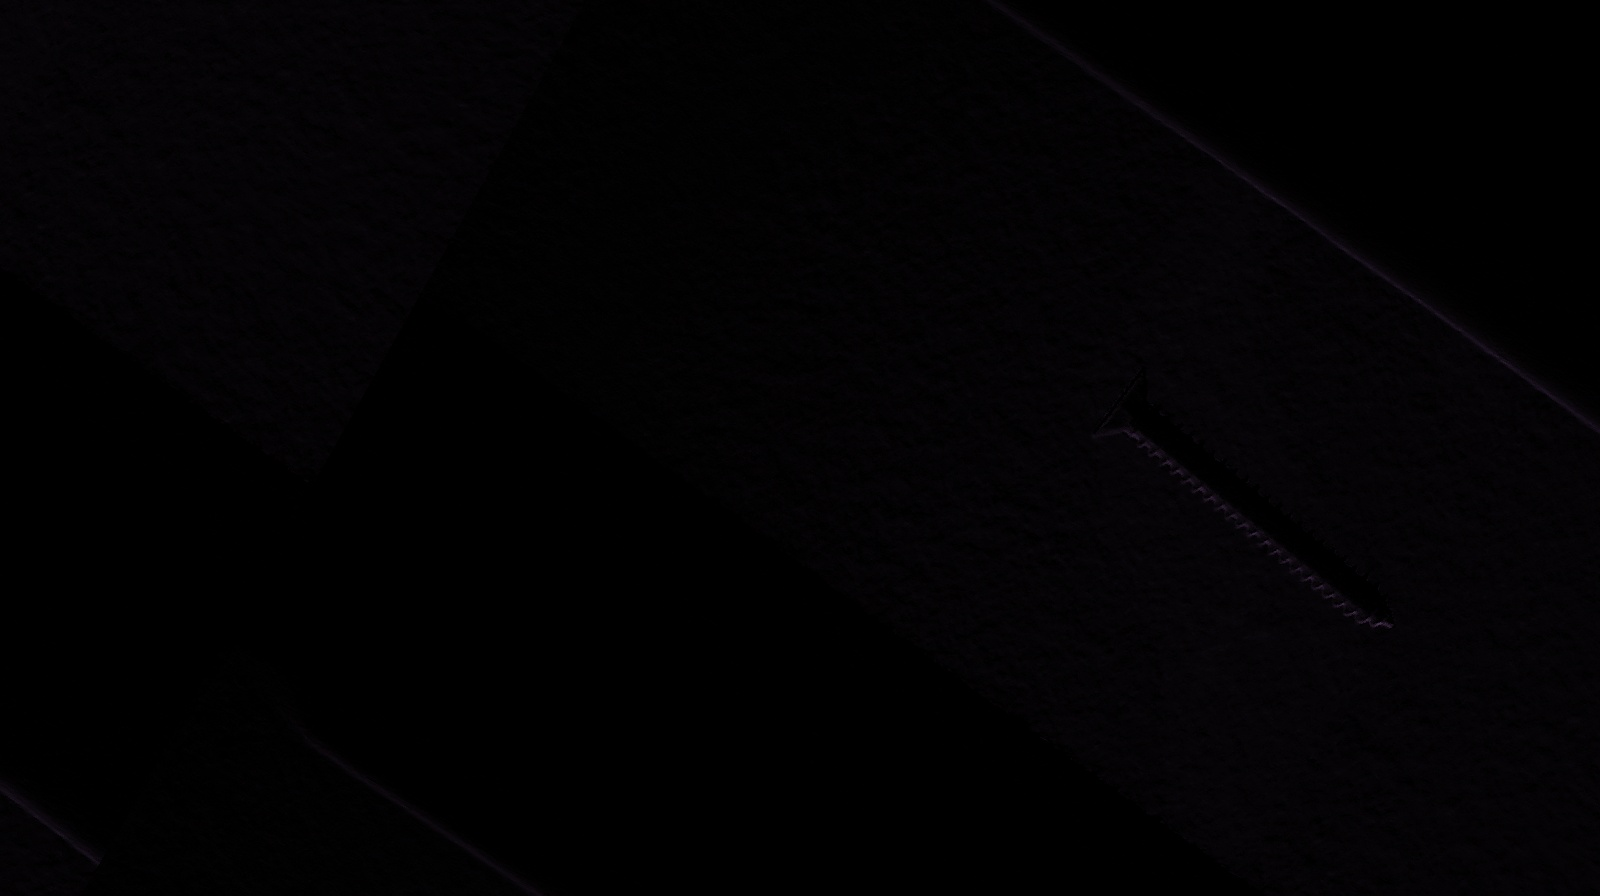S002: (1054, 356, 1455, 646)
